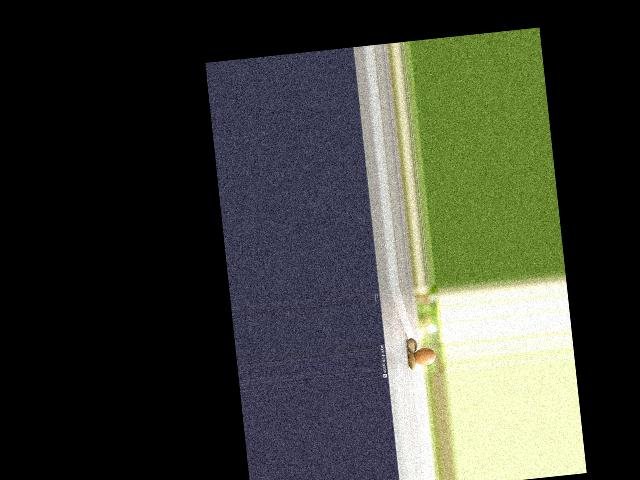egg: (413, 346, 435, 366)
